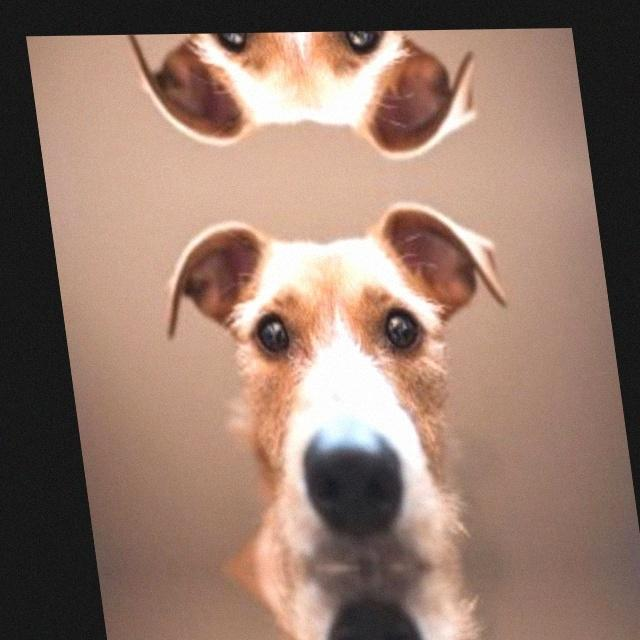dog: (141, 197, 546, 570), (118, 29, 492, 168), (190, 565, 566, 640)
